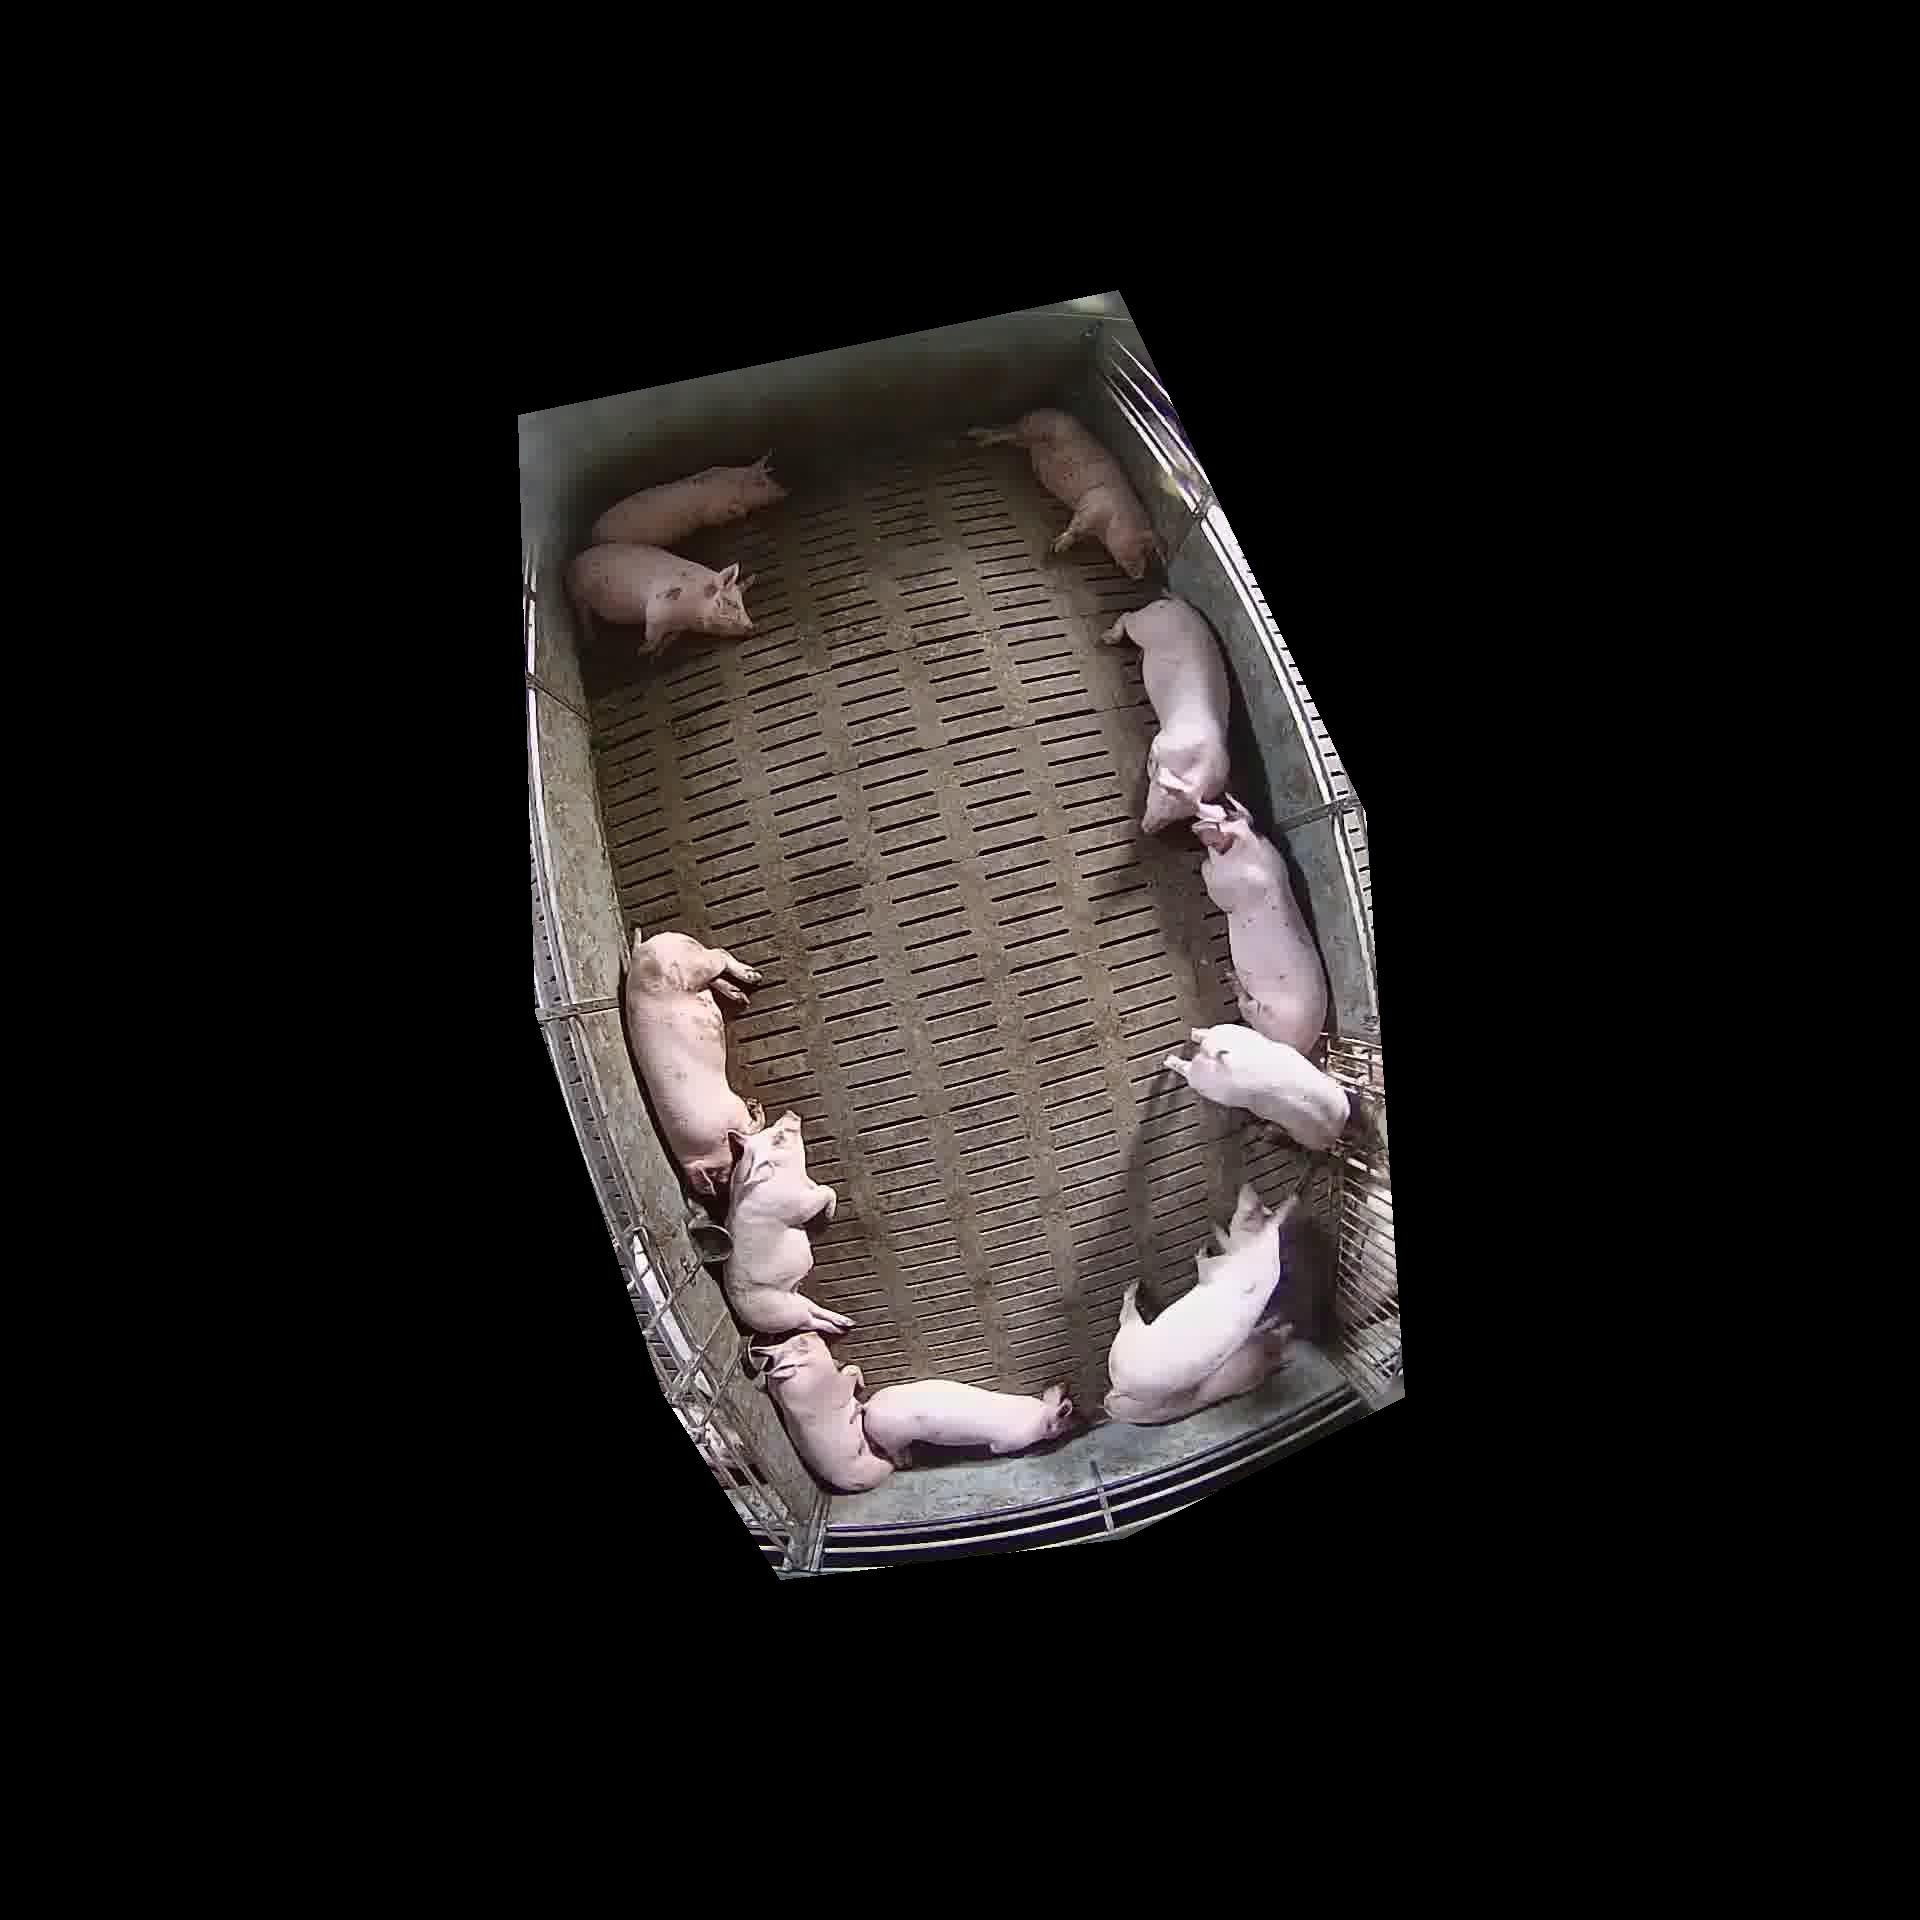pig: (1106, 1185, 1298, 1415), (624, 932, 763, 1196), (1194, 796, 1327, 1053), (969, 410, 1155, 578), (1104, 598, 1229, 833), (723, 1111, 853, 1335), (1166, 1023, 1349, 1148), (753, 1333, 893, 1491), (566, 543, 753, 652), (593, 455, 786, 547), (863, 1378, 1073, 1463), (1131, 1320, 1289, 1422)
